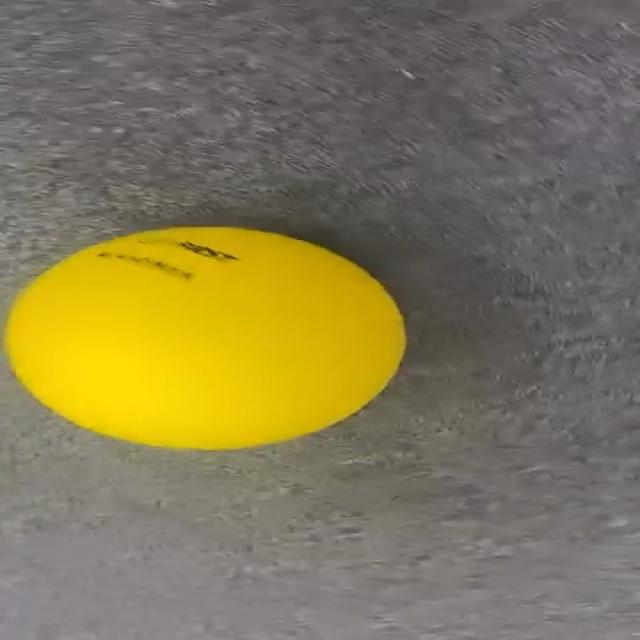Fuels: (4, 226, 404, 448)
